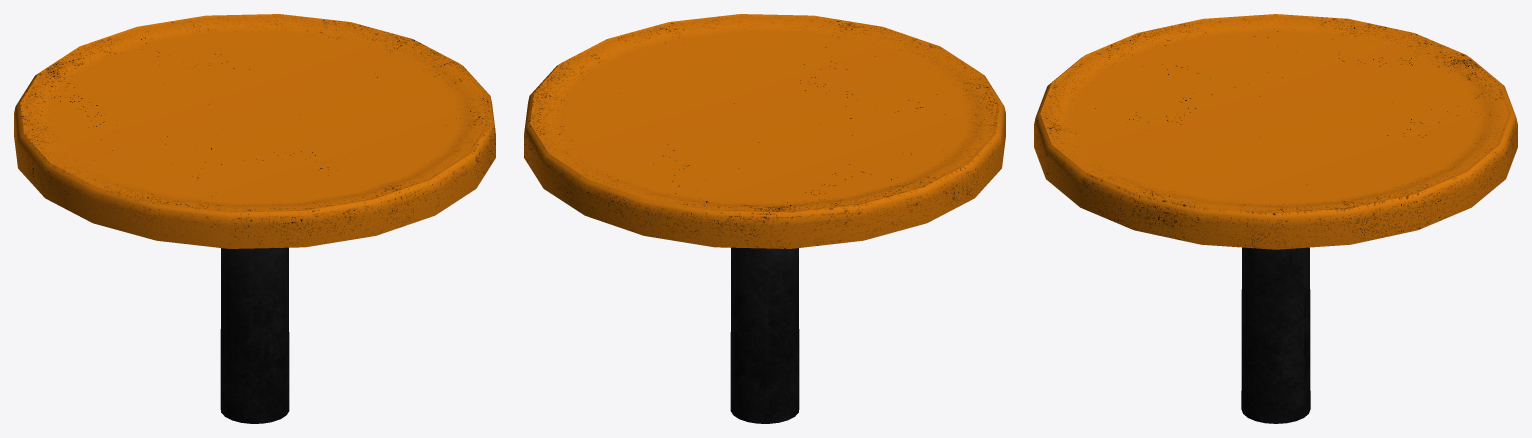
The model's file is stool w stain.fbx.
3 views of the same model, side by side, from view 1: azimuth 30°, elevation 25°; view 2: azimuth 150°, elevation 25°; view 3: azimuth 270°, elevation 25° (orthographic).
Visible parts, largest first — view 1: pCylinder6; view 2: pCylinder6; view 3: pCylinder6.
Boxes of the visible parts, x1=… form: pCylinder6: x1=14, y1=14, x2=495, y2=423; pCylinder6: x1=524, y1=14, x2=1005, y2=423; pCylinder6: x1=1034, y1=14, x2=1517, y2=423.
Size of the model in its own units: 0.7 by 0.4721 by 0.7.
Materials: 3 (3 with a texture image).
